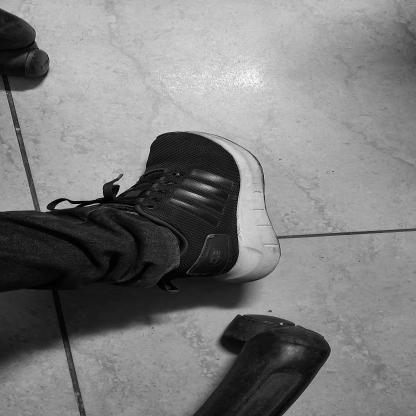ankle: (184, 240, 197, 246)
heel: (236, 276, 245, 281)
pinky: (207, 139, 220, 145)
right_foot: (110, 132, 282, 284)
toe: (157, 145, 164, 149)
